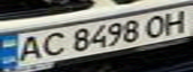4: (87, 22, 112, 50)
8: (69, 25, 93, 53), (121, 17, 145, 44)
9: (106, 20, 127, 47)
A: (9, 34, 48, 63)
C: (36, 29, 69, 58)
H: (157, 7, 193, 35)
O: (139, 12, 172, 38)
